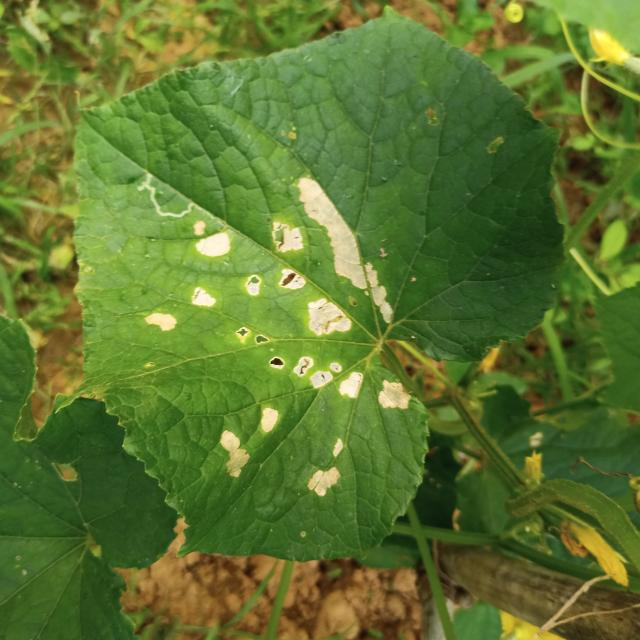disease_cucumber: (268, 175, 408, 339), (231, 323, 418, 417), (136, 218, 269, 348), (206, 399, 353, 502)
